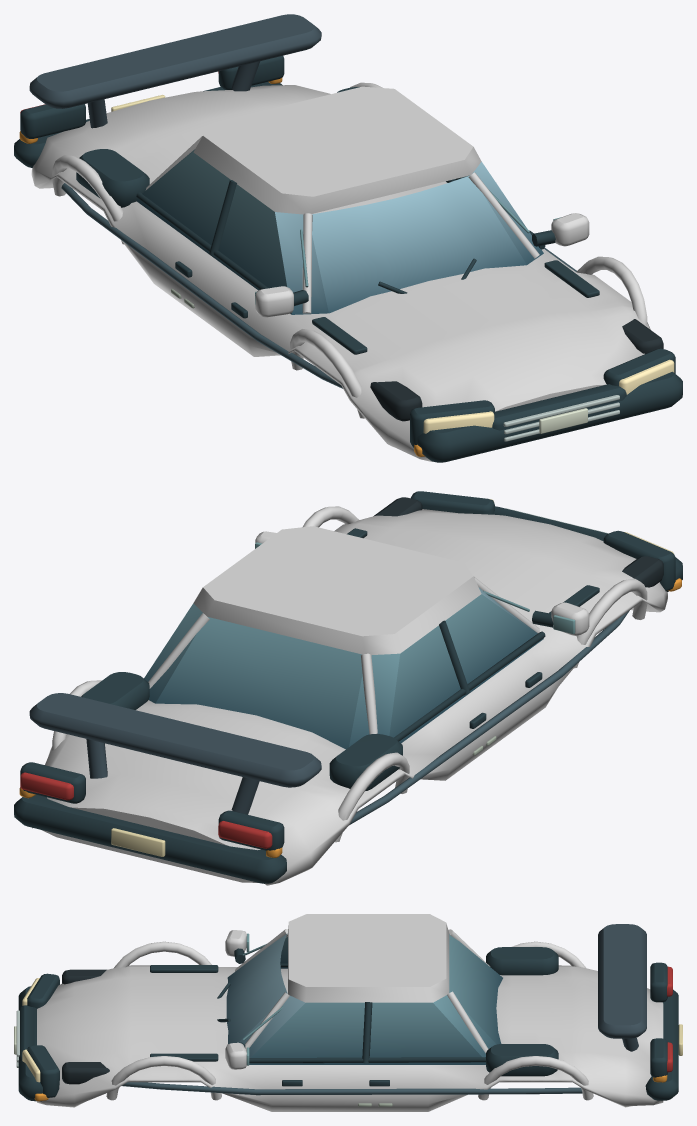
The model's file is onyx.glb.
The picture shows the model from 3 angles, top to bottom: view 1: azimuth 30°, elevation 25°; view 2: azimuth 150°, elevation 25°; view 3: azimuth 270°, elevation 25°; orthographic projection. The views are drawn at different scales.
Parts seen in each view (by area): view 1: Chassis, Headlamps; view 2: Chassis, BrakeLamps; view 3: Chassis, Headlamps, BrakeLamps.
Part boxes in pixels (x1=…): Chassis: x1=14, y1=14, x2=682, y2=462; Headlamps: x1=423, y1=359, x2=674, y2=433; Chassis: x1=14, y1=491, x2=682, y2=885; BrakeLamps: x1=20, y1=772, x2=272, y2=848; Chassis: x1=14, y1=914, x2=682, y2=1111; Headlamps: x1=22, y1=978, x2=40, y2=1082; BrakeLamps: x1=667, y1=966, x2=672, y2=1072.
Bounding box in the file's own units: 2.01 × 0.8165 × 4.52.
